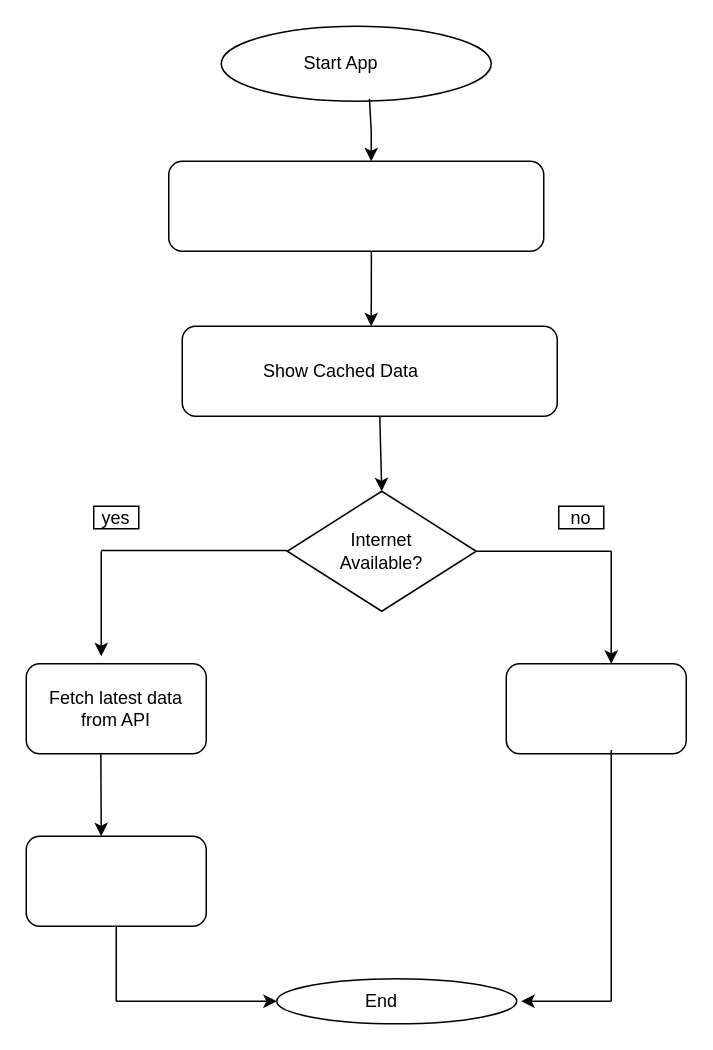
The diagram is 713 pixels wide and 1050 high, and some of its shapes have lost their labels. Each missing label, with the box of its shape:
Keep showing Cached data: (505, 662, 686, 754)
Read from Cache: (167, 160, 544, 251)
Update cache: (25, 835, 206, 926)
